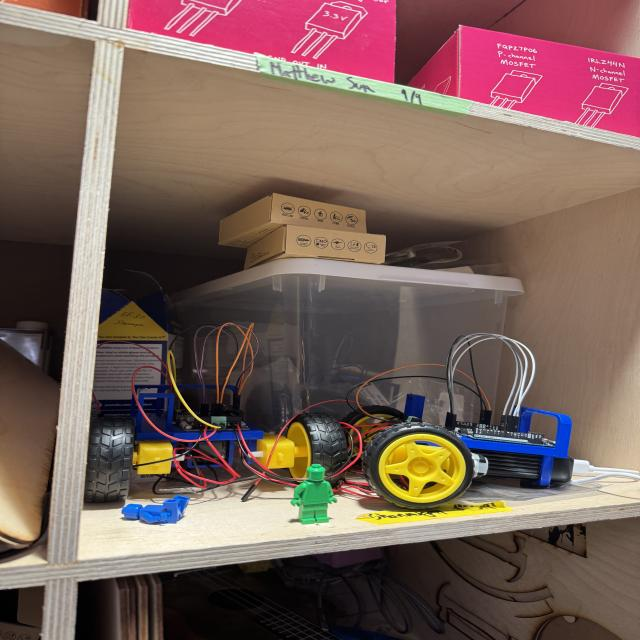Green Mini Figure: (291, 464, 337, 524)
